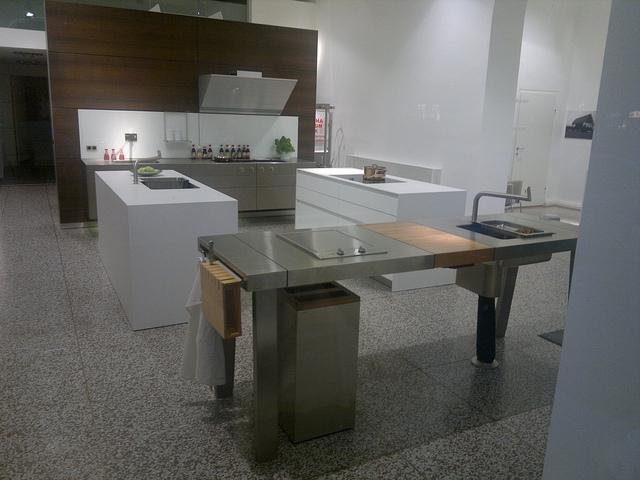Bote de Basura: (272, 282, 364, 442)
Lavaplatos: (454, 177, 563, 258), (120, 152, 203, 206)
